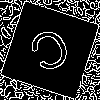C: (25, 25, 79, 83)
